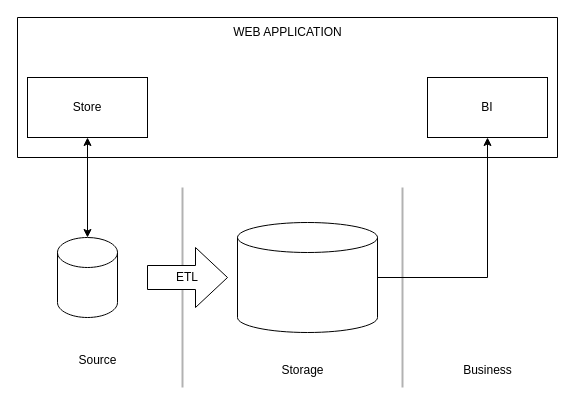
Image size: 575x406. Some labels were removed from this diagram. The shapes that lost their labels are listed below. From the top down, each one's centre as x and y in pixels, then its label:
pixel 87 277: prod
pixel 307 277: DWH
